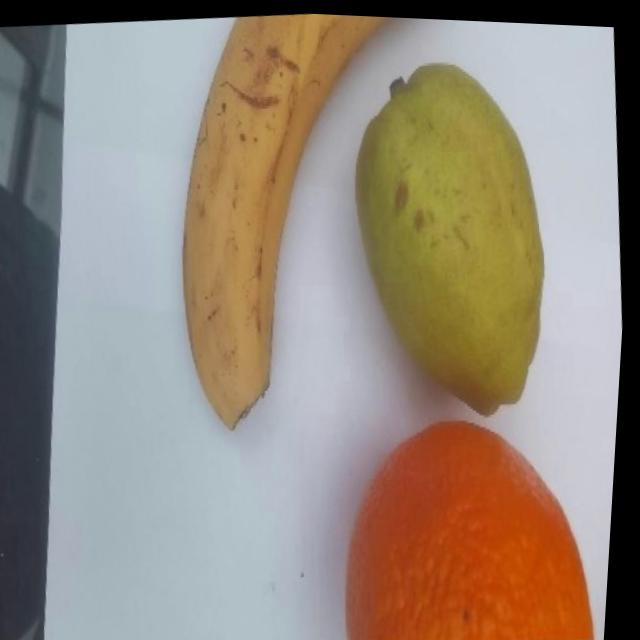Banana: (155, 6, 434, 440)
Orange: (332, 400, 612, 640)
